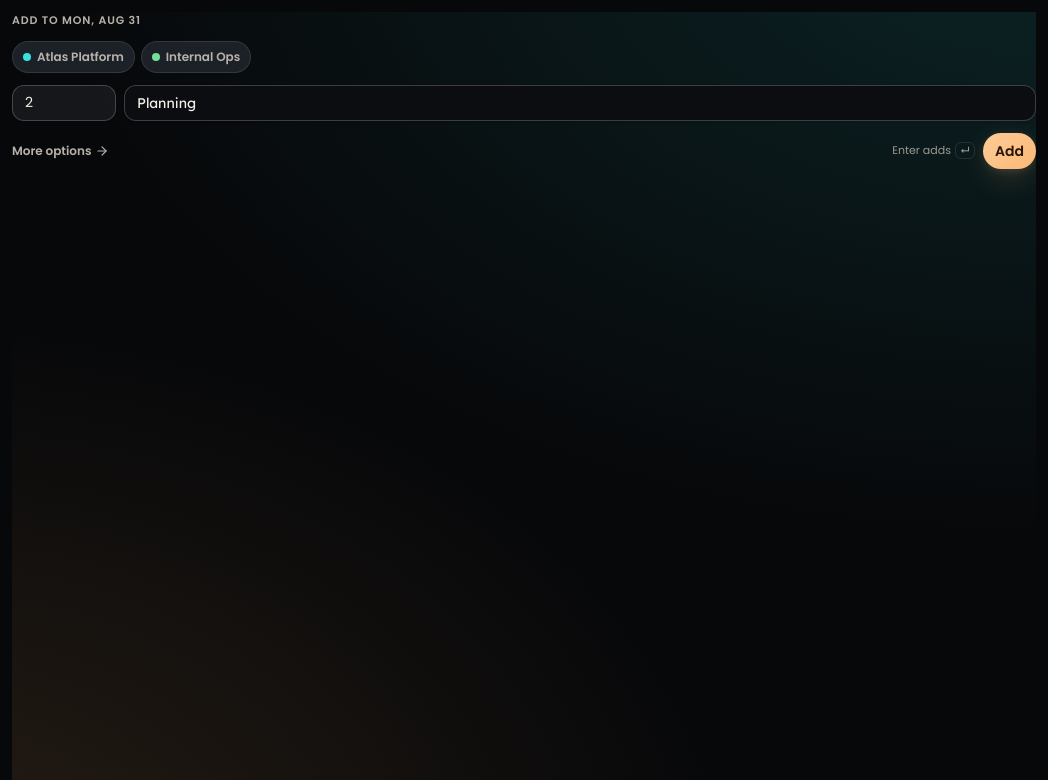
it: QuickEntryComposer › asks for a project when none is picked
What coordinates should you click on to do the following:
click the button "Add"
I would click on:
 (1010, 150)
Its box is 983,132 -> 1036,168.
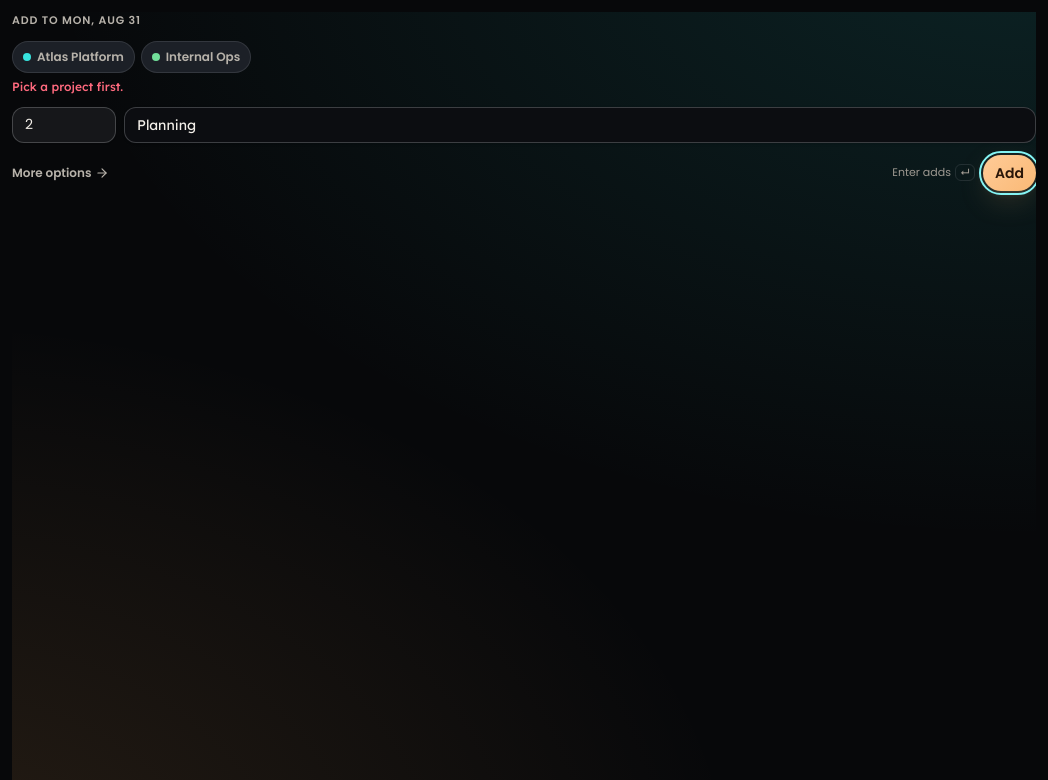
Check: the text "Pick a project first." is shown, box 12,78 -> 123,94
